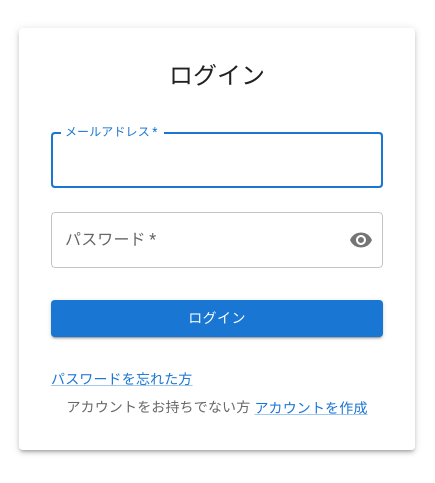
Scenario: LoginForm › should validate password requirements
Type "test@example.com" into the field labelled "メールアドレス *". click: (217, 160)
box: [51,132,383,188]
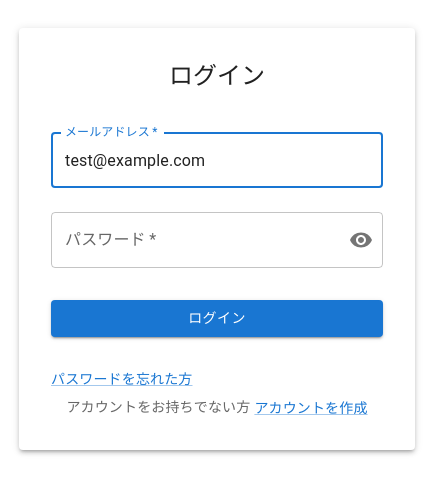
Click on the password field to focus it
Type "short" into the password field labelled "パスワード *". click: (192, 240)
box: [51,212,333,268]
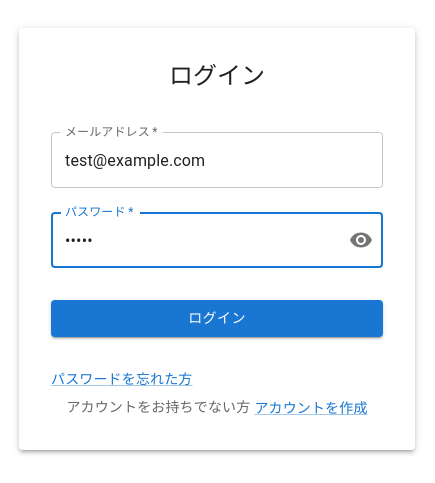
Click the button "ログイン". click: (217, 318)
box: [51,300,383,337]
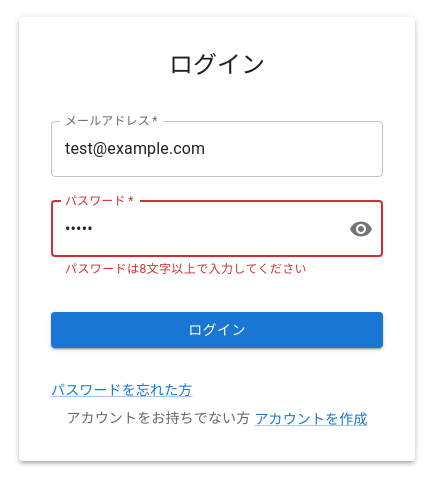
Expected: the text "パスワードは8文字以上で入力してください" is shown, [65,262,307,276]
